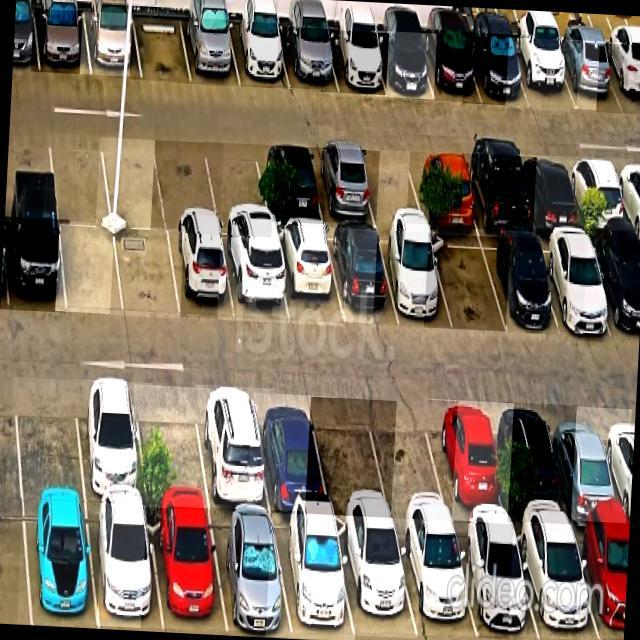empty: (367, 400, 452, 520), (311, 398, 391, 518), (135, 385, 210, 508), (15, 379, 85, 498), (430, 235, 506, 332), (100, 137, 167, 231), (205, 143, 271, 237), (156, 141, 220, 233), (115, 229, 180, 319), (48, 133, 111, 225), (60, 225, 123, 314), (359, 149, 425, 223), (133, 14, 192, 83)
occupied: (208, 511, 292, 636), (272, 514, 355, 640), (147, 507, 228, 633), (335, 516, 417, 639), (454, 522, 539, 640), (394, 522, 478, 639), (514, 524, 598, 640), (430, 401, 508, 523), (88, 503, 163, 629), (24, 501, 97, 628), (549, 406, 626, 526), (195, 389, 270, 511), (253, 393, 329, 512), (499, 402, 571, 524), (75, 380, 146, 503), (536, 234, 614, 334), (378, 230, 452, 329), (481, 237, 558, 331), (327, 228, 399, 324), (274, 226, 343, 324), (572, 524, 630, 640), (168, 233, 236, 320), (222, 237, 289, 323), (5, 217, 65, 312), (588, 235, 640, 342), (462, 154, 533, 232), (256, 146, 324, 223), (553, 39, 623, 112), (411, 152, 478, 227), (310, 148, 376, 223), (518, 155, 583, 230), (509, 38, 576, 110), (567, 156, 629, 231), (467, 33, 529, 107), (421, 31, 482, 103), (228, 21, 290, 89), (372, 33, 434, 100), (181, 17, 240, 86), (325, 30, 386, 95), (84, 12, 142, 77), (35, 9, 91, 75), (280, 27, 337, 90), (600, 44, 640, 114)
